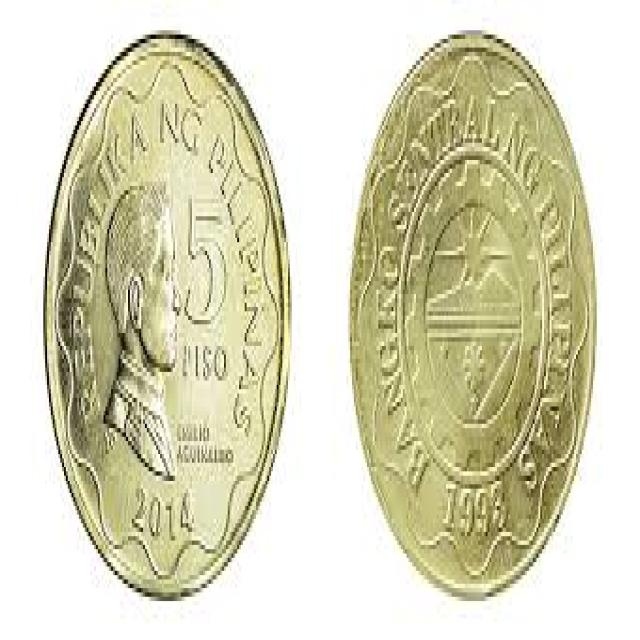5 peso-old: (343, 22, 602, 608), (40, 22, 294, 612)
